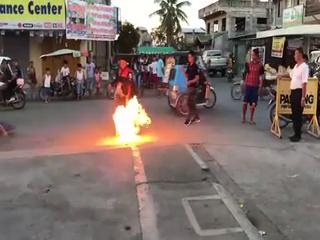Fire: (106, 97, 153, 141)
